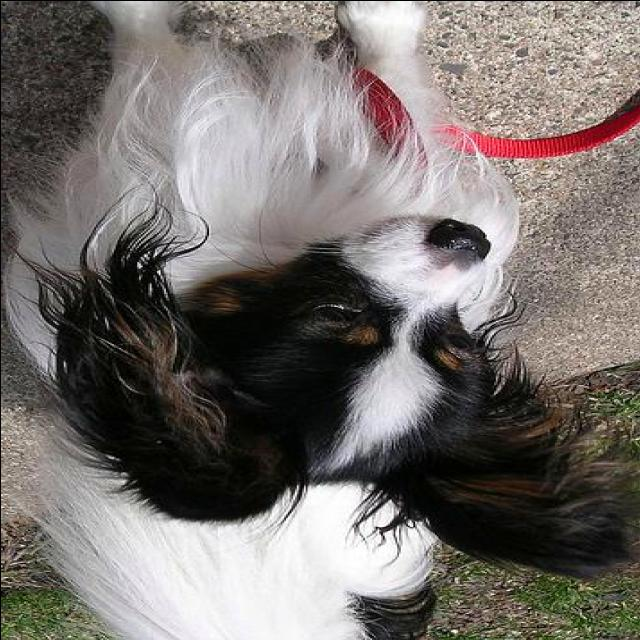papillon: (6, 4, 640, 639)
